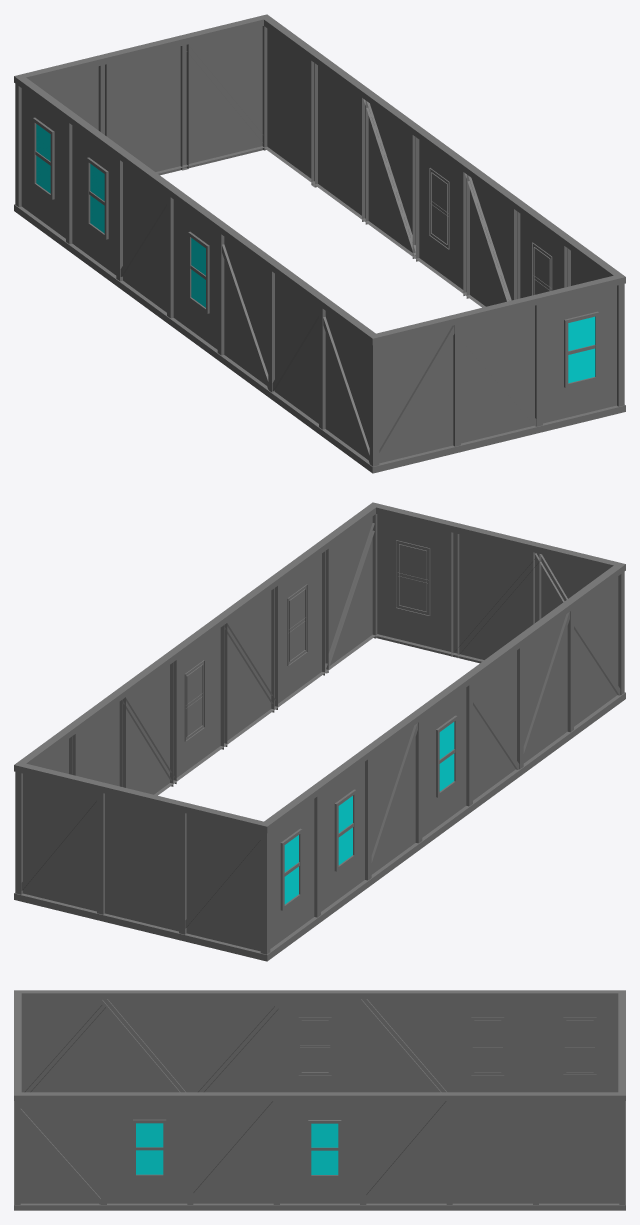
Rendered from Floor 1 8x20.obj.
3 views of the same model, one above another, from view 1: azimuth 30°, elevation 25°; view 2: azimuth 150°, elevation 25°; view 3: azimuth 270°, elevation 25° (orthographic). The views are drawn at different scales.
Parts seen in each view (by area): view 1: Floor_1_8x20:buildingWalls, polySurface7 Floor_1_8x20:wood_Parts, polySurface6; view 2: Floor_1_8x20:buildingWalls, polySurface7 Floor_1_8x20:wood_Parts, polySurface6; view 3: Floor_1_8x20:buildingWalls, polySurface7 Floor_1_8x20:wood_Parts, polySurface6.
Part boxes in pixels (x1,y1,x2,y2): Floor_1_8x20:buildingWalls: [21, 26, 616, 463]; polySurface7 Floor_1_8x20:wood_Parts: [14, 14, 625, 473]; polySurface6: [36, 124, 595, 383]; Floor_1_8x20:buildingWalls: [23, 514, 618, 951]; polySurface7 Floor_1_8x20:wood_Parts: [14, 502, 625, 961]; polySurface6: [284, 722, 454, 904]; Floor_1_8x20:buildingWalls: [20, 999, 619, 1203]; polySurface7 Floor_1_8x20:wood_Parts: [14, 990, 625, 1210]; polySurface6: [136, 1123, 338, 1174].
Bounding box in the file's own units: 8.25 × 4.2 × 20.25.
